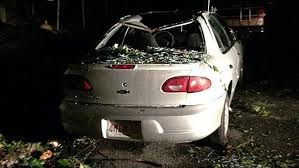Broken-glass: (102, 22, 207, 65)
